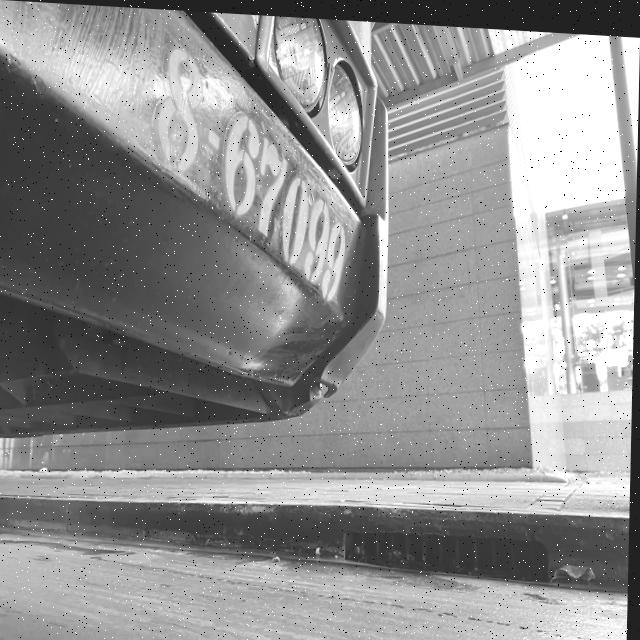BMTA-bus: (0, 0, 398, 462)
